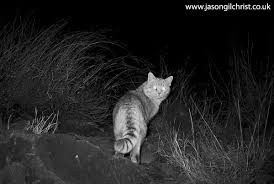house cat: (105, 59, 189, 170)
